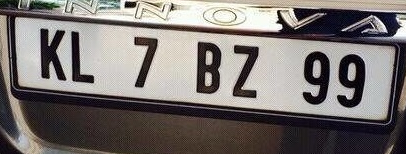7: (132, 35, 160, 89)
9: (334, 53, 369, 109), (301, 48, 333, 107)
B: (194, 40, 223, 98)
K: (36, 26, 68, 82)
L: (68, 29, 96, 86)
Z: (230, 42, 262, 101)
